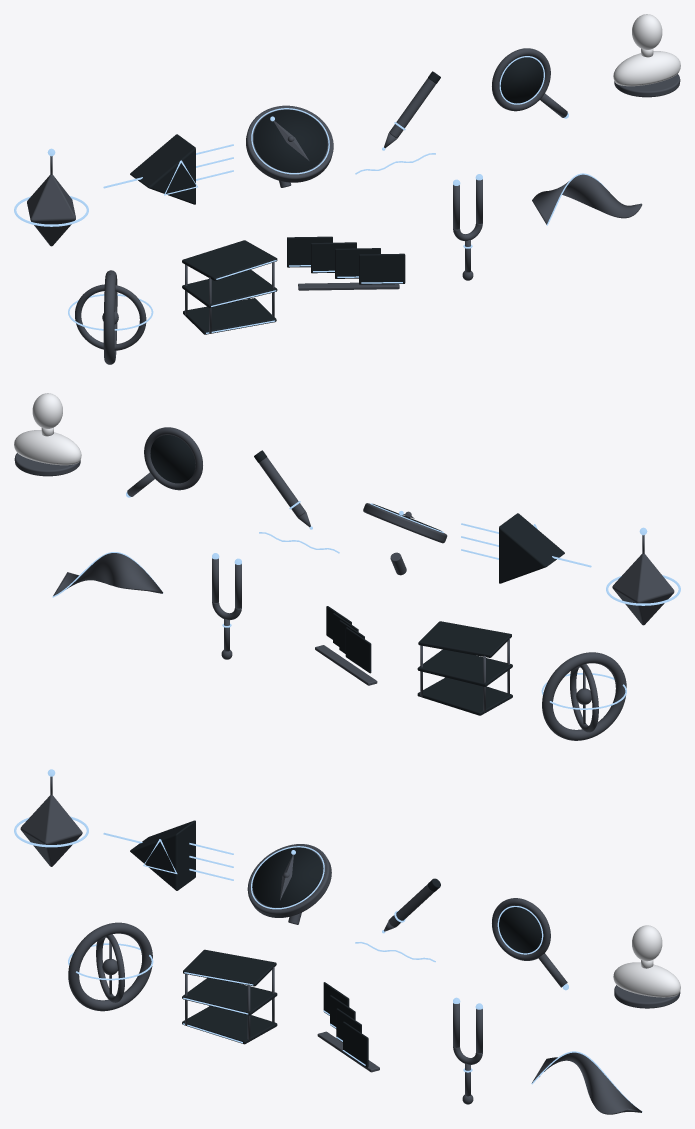
File: agents.glb
3 renders of one model, top to bottom at view 1: azimuth 30°, elevation 25°; view 2: azimuth 150°, elevation 25°; view 3: azimuth 330°, elevation 25°, orthographic.
Visible parts, largest first — view 1: face, prisme, ruban, corps, plaque_2, plaque_0, plaque_1, buste, disque, verre, cadre_3, cerclage (+9 smaller); view 2: prisme, anneau, corps, plaque_2, ruban, plaque_1, plaque_0, buste, verre, cerclage, croise, disque (+5 smaller); view 3: face, prisme, anneau, corps, plaque_2, plaque_1, ruban, plaque_0, buste, verre, disque, cerclage (+5 smaller).
Boxes of the visible parts, box(x1,y1,x2,y2) form: face: box(253, 109, 327, 172); prisme: box(130, 134, 195, 204); ruban: box(532, 174, 642, 224); corps: box(27, 174, 75, 246); plaque_2: box(182, 240, 277, 280); plaque_0: box(183, 298, 276, 334); plaque_1: box(182, 269, 277, 307); buste: box(613, 51, 680, 86); disque: box(246, 105, 333, 182); verre: box(499, 56, 543, 103); cadre_3: box(359, 253, 405, 284); cerclage: box(492, 48, 550, 111); prisme: box(499, 513, 564, 583); anneau: box(542, 652, 626, 740); corps: box(612, 553, 674, 625); plaque_2: box(418, 621, 511, 657); ruban: box(53, 553, 162, 595); plaque_1: box(417, 649, 512, 686); plaque_0: box(417, 677, 512, 715); buste: box(14, 430, 81, 465); verre: box(150, 435, 195, 483); cerclage: box(144, 427, 202, 490); croise: box(570, 664, 598, 732); disque: box(363, 503, 447, 543); face: box(252, 847, 322, 907); prisme: box(130, 820, 195, 890); anneau: box(68, 922, 152, 1011); corps: box(20, 795, 82, 866); plaque_2: box(183, 949, 276, 986); plaque_1: box(182, 978, 277, 1015); ruban: box(532, 1052, 641, 1114); plaque_0: box(182, 1006, 277, 1044); buste: box(613, 962, 680, 997); verre: box(499, 905, 543, 953); disque: box(247, 844, 331, 917); cerclage: box(492, 898, 550, 960).
Bounding box in the file's own units: 6.93 × 2.33 × 0.776.
